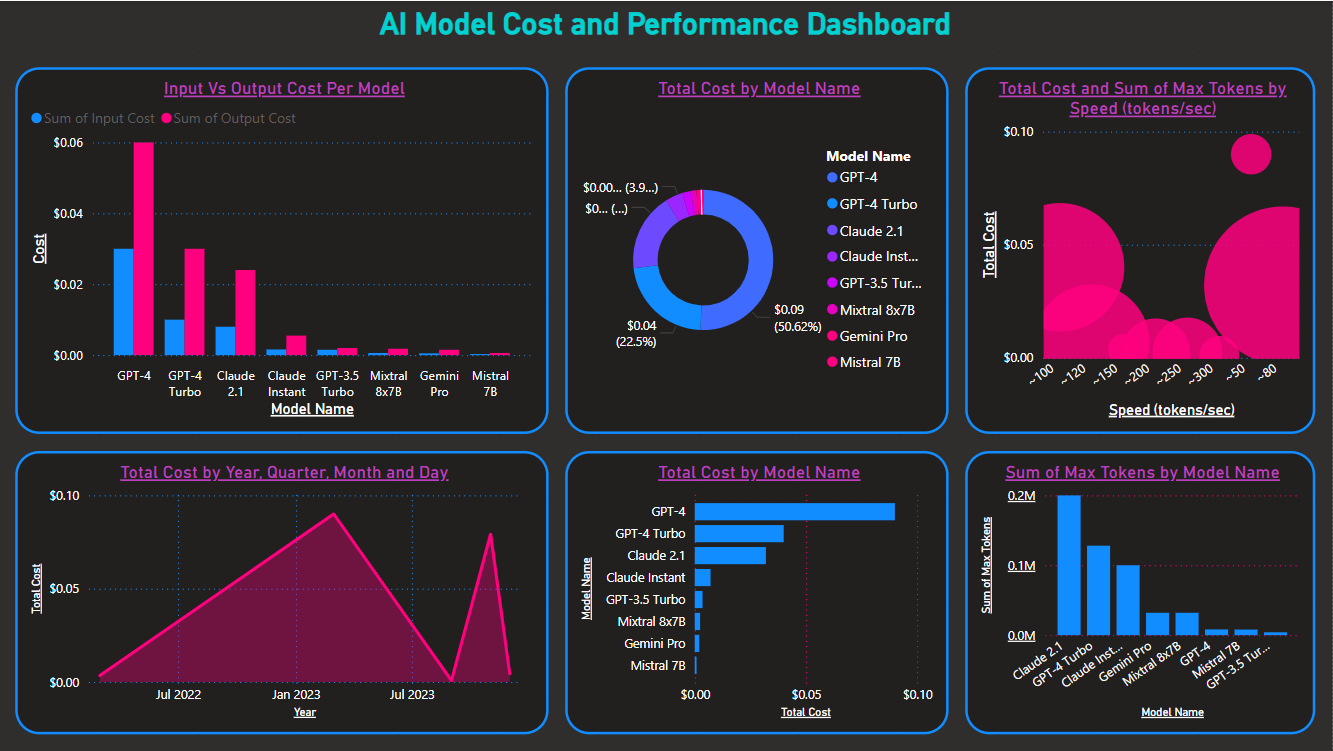

Layout of this report page (visuals, bound fields, positions):
{"tool":"powerbi","page":{"name":"Page 1","canvas":[1280,720],"ordinal":0},"visuals":[{"type":"clusteredColumnChart","title":"Input Vs Output Cost Per Model","fields":{"Category":["Cost_Benefit_Analyzer.Model Name"],"Y":["Sum(Cost_Benefit_Analyzer.Input Cost (per 1k tokens))","Sum(Cost_Benefit_Analyzer.Output Cost (per 1k tokens))"]},"box":[16,64,512,352],"z":0},{"type":"barChart","fields":{"Category":["Cost_Benefit_Analyzer.Model Name"],"Y":["Cost_Benefit_Analyzer.Total Cost"]},"box":[544,432,368,272],"z":1000},{"type":"scatterChart","fields":{"X":["Cost_Benefit_Analyzer.Speed (tokens/sec)"],"Size":["Sum(Cost_Benefit_Analyzer.Max Tokens)"],"Y":["Cost_Benefit_Analyzer.Total Cost"]},"box":[928,64,336,352],"z":2000},{"type":"lineStackedColumnComboChart","fields":{"Category":["Cost_Benefit_Analyzer.Model Name"],"Y":["Sum(Cost_Benefit_Analyzer.Max Tokens)"]},"box":[928,432,336,272],"z":3000},{"type":"lineChart","fields":{"Category":["Cost_Benefit_Analyzer.Release Date.Variation.Date Hierarchy.Year","Cost_Benefit_Analyzer.Release Date.Variation.Date Hierarchy.Quarter","Cost_Benefit_Analyzer.Release Date.Variation.Date Hierarchy.Month","Cost_Benefit_Analyzer.Release Date.Variation.Date Hierarchy.Day"],"Y":["Cost_Benefit_Analyzer.Total Cost"]},"box":[16,432,512,272],"z":4000},{"type":"textbox","box":[352,0,576,48],"z":5000},{"type":"donutChart","fields":{"Category":["Cost_Benefit_Analyzer.Model Name"],"Y":["Cost_Benefit_Analyzer.Total Cost"]},"box":[544,64,368,352],"z":6000}]}

Visuals, with their boxes in screenshot pixels (x1, y1, x2, y2), scaled from the page's 1280x720 canvas onto the 1333x751 screenshot:
"Input Vs Output Cost Per Model" clusteredColumnChart: l=17, t=67, r=550, b=434
barChart - Cost_Benefit_Analyzer.Model Name x Cost_Benefit_Analyzer.Total Cost: l=567, t=451, r=950, b=734
scatterChart - Cost_Benefit_Analyzer.Speed (tokens/sec) x Sum(Cost_Benefit_Analyzer.Max Tokens): l=966, t=67, r=1316, b=434
lineStackedColumnComboChart - Cost_Benefit_Analyzer.Model Name x Sum(Cost_Benefit_Analyzer.Max Tokens): l=966, t=451, r=1316, b=734
lineChart - Cost_Benefit_Analyzer.Release Date.Variation.Date Hierarchy.Year x Cost_Benefit_Analyzer.Release Date.Variation.Date Hierarchy.Quarter: l=17, t=451, r=550, b=734
textbox: l=367, t=0, r=966, b=50
donutChart - Cost_Benefit_Analyzer.Model Name x Cost_Benefit_Analyzer.Total Cost: l=567, t=67, r=950, b=434
